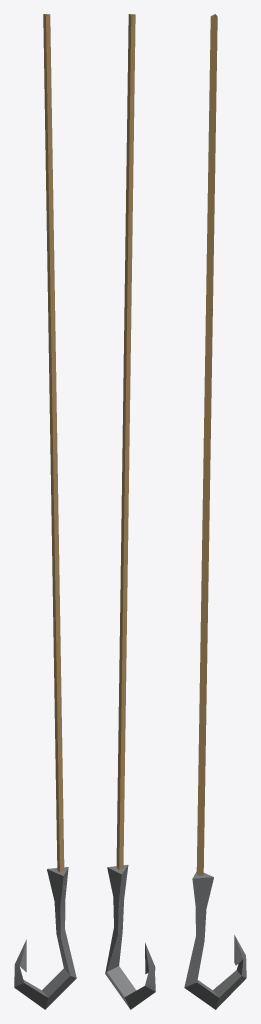
Rendered from fishing_line.glb.
3 views of the same model, side by side, from view 1: azimuth 90°, elevation 25°; view 2: azimuth 210°, elevation 25°; view 3: azimuth 270°, elevation 25° (orthographic).
Visible parts, largest first — view 1: fishing_rod_hook_0; view 2: fishing_rod_hook_0; view 3: fishing_rod_hook_0.
Part boxes in pixels (x1,y1,x2,y2): fishing_rod_hook_0: (14,14,76,1009); fishing_rod_hook_0: (105,14,155,1009); fishing_rod_hook_0: (184,14,246,1009).
Size of the model in its own units: 0.0403 by 1.37 by 0.078.
Materials: 1 (1 with a texture image).
